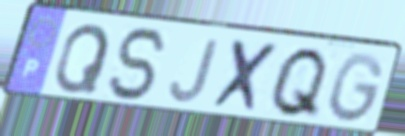G: (325, 50, 386, 126)
J: (167, 37, 222, 105)
Q: (266, 45, 332, 123), (52, 22, 114, 96)
S: (106, 25, 172, 104)
X: (208, 37, 285, 117)
